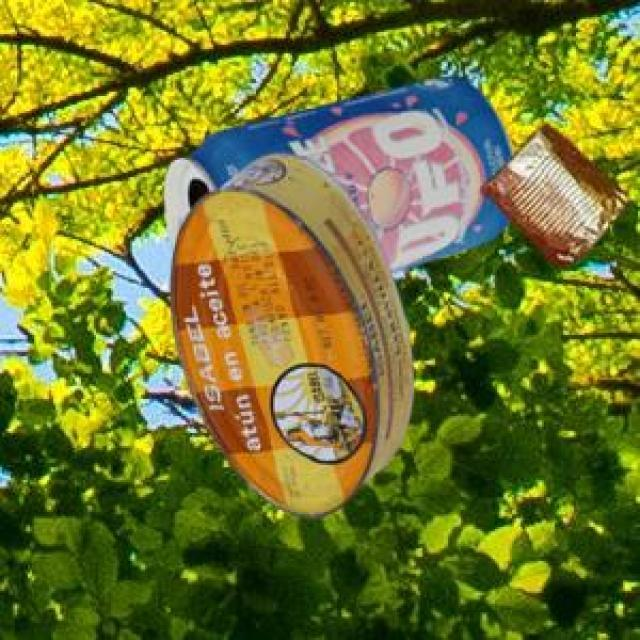Can: (170, 150, 409, 515), (161, 74, 509, 268), (479, 123, 624, 263)
